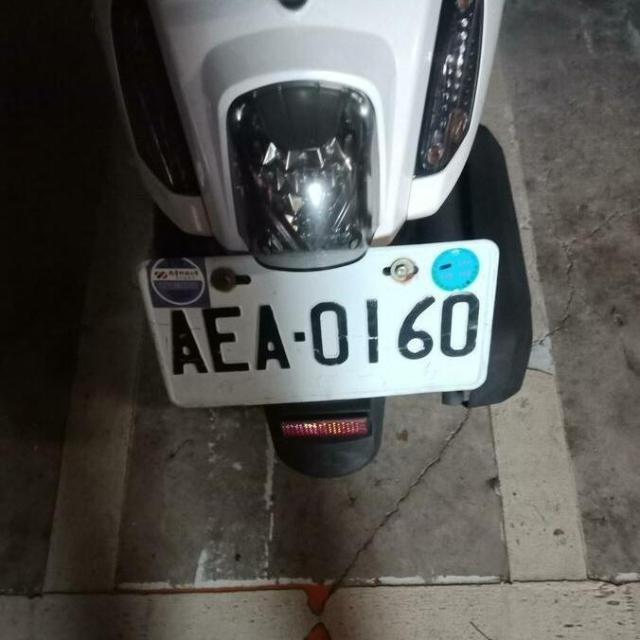W: (130, 220, 504, 418)
